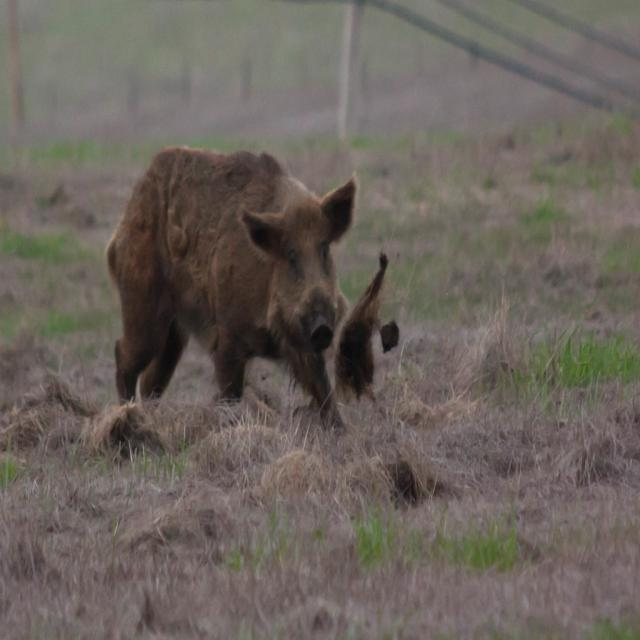Pig: (105, 145, 358, 437)
